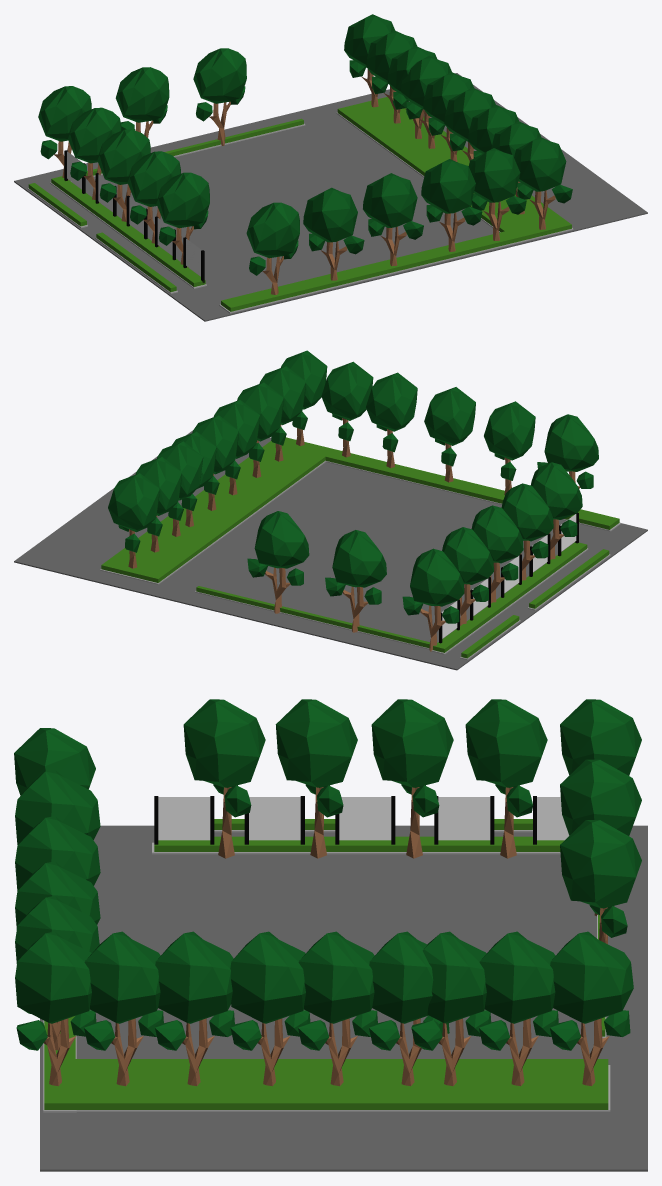
File: ParkingS.glb
The picture shows the model from 3 angles, top to bottom: view 1: azimuth 30°, elevation 25°; view 2: azimuth 150°, elevation 25°; view 3: azimuth 270°, elevation 25°; orthographic projection. The views are drawn at different scales.
Visible parts, largest first — view 1: Tree 29.001; view 2: Tree 29.001; view 3: Tree 29.001.
Part boxes in pixels (x1,y1,x2,y2): Tree 29.001: (14,14,647,321); Tree 29.001: (14,350,647,670); Tree 29.001: (14,699,647,1171).
Bounding box in the file's own units: 50 × 10.66 × 38.92.
48 materials, 6 textured.
